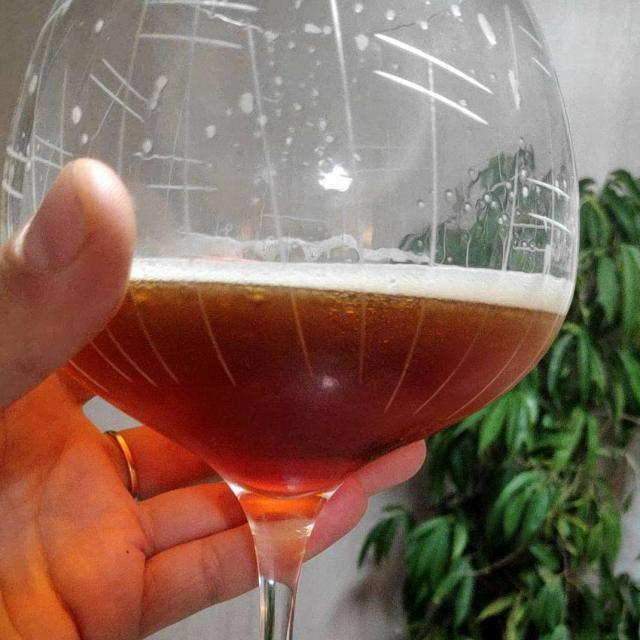beer: (64, 279, 563, 489)
